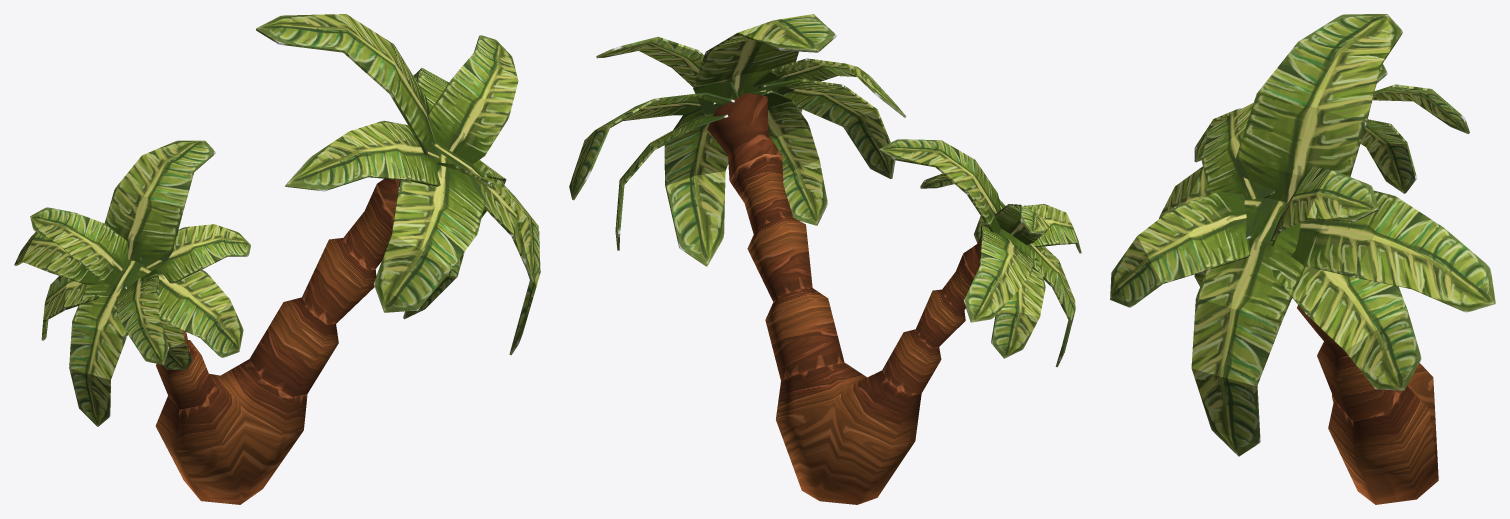
The model's file is orc_double_palm.FBX.
3 views of the same model, side by side, from view 1: azimuth 30°, elevation 25°; view 2: azimuth 150°, elevation 25°; view 3: azimuth 270°, elevation 25° (orthographic). The views are drawn at different scales.
Parts seen in each view (by area): view 1: Palm; view 2: Palm; view 3: Palm.
Part boxes in pixels (x1=…): Palm: x1=14, y1=14, x2=540, y2=504; Palm: x1=569, y1=14, x2=1081, y2=504; Palm: x1=1110, y1=14, x2=1495, y2=504.
Bounding box in the file's own units: 2893 × 2717 × 1918.
